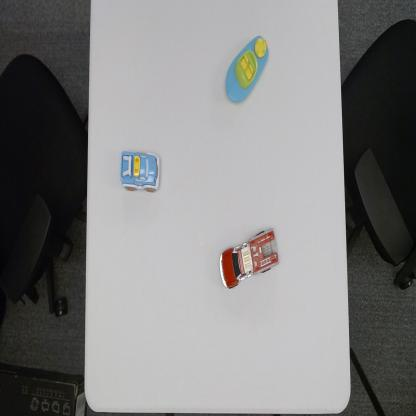Boat: (224, 33, 271, 105)
Car: (118, 148, 161, 196)
Firetruck: (218, 226, 280, 291)
